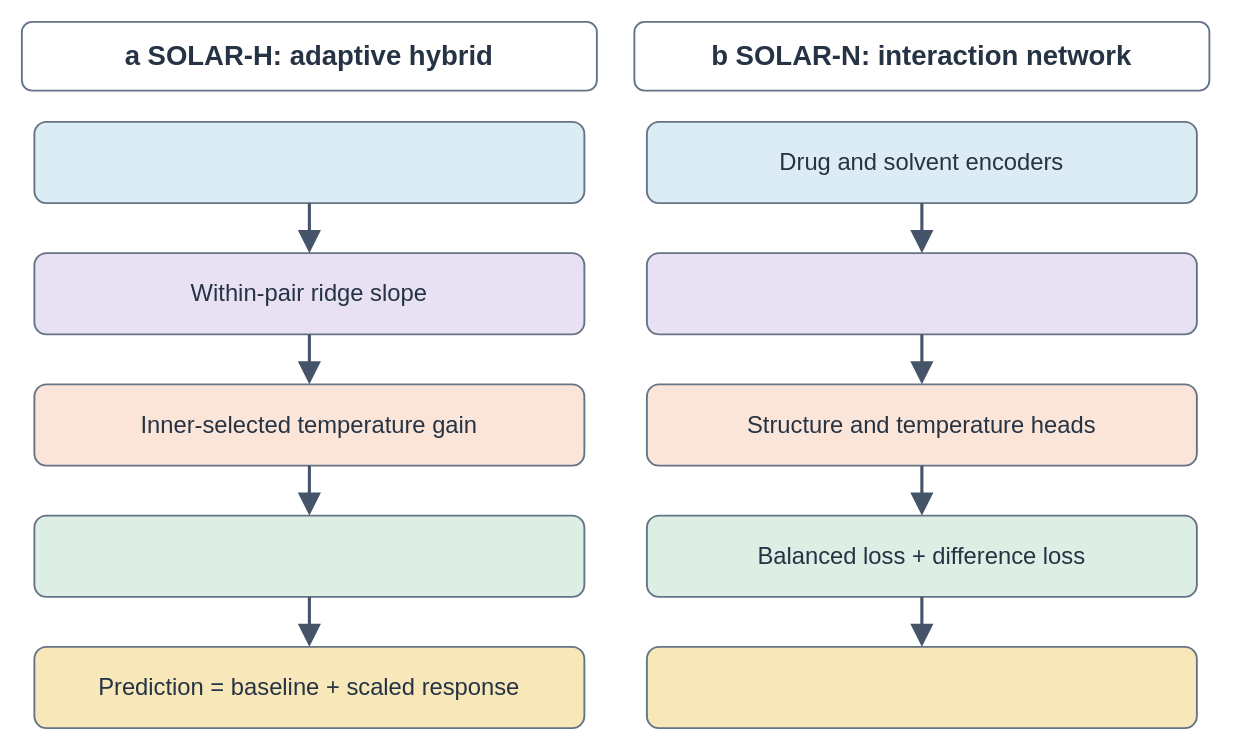
Image size: 1233x751. Some labels were removed from this diagram. Here are the shapes that lost their labels. From the top down, the centre of each, then its label:
At (309,162): "Molecular interaction descriptors".
At (921,293): "Latent molecular interactions".
At (309,555): "Parent-balanced structural trees".
At (921,686): "Prediction = baseline + temperature response".
